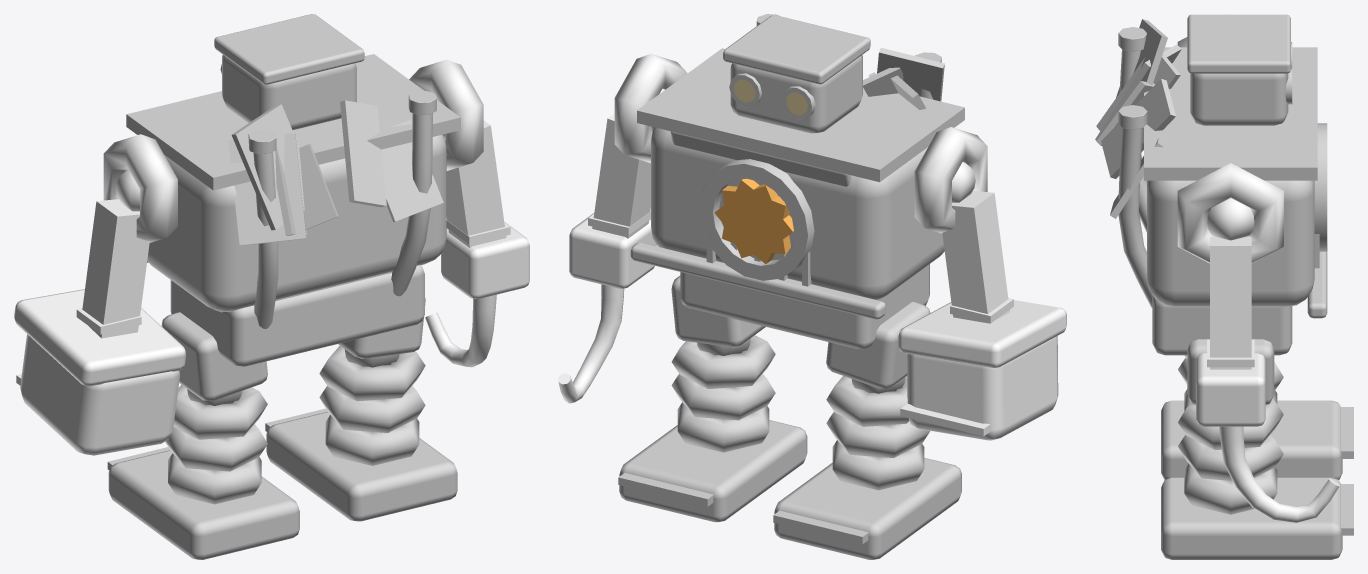
The model's file is ScrapColossus.glb.
The picture shows the model from 3 angles, left to right: view 1: azimuth 30°, elevation 25°; view 2: azimuth 150°, elevation 25°; view 3: azimuth 270°, elevation 25°; orthographic projection.
Parts seen in each view (by area): view 1: Body, ArmL, ArmR; view 2: Body, ArmL, ArmR, Core, Eyes; view 3: Body, ArmR.
Part boxes in pixels (x1,y1,x2,y2): Body: (107, 14, 460, 559); ArmL: (14, 134, 185, 455); ArmR: (409, 59, 529, 367); Body: (618, 14, 964, 559); ArmL: (898, 127, 1066, 440); ArmR: (558, 54, 687, 403); Core: (714, 178, 793, 263); Eyes: (733, 79, 807, 115); Body: (1095, 14, 1353, 559); ArmR: (1177, 163, 1339, 522).
Size of the model in its own units: 38.22 by 36.4 by 18.51.
